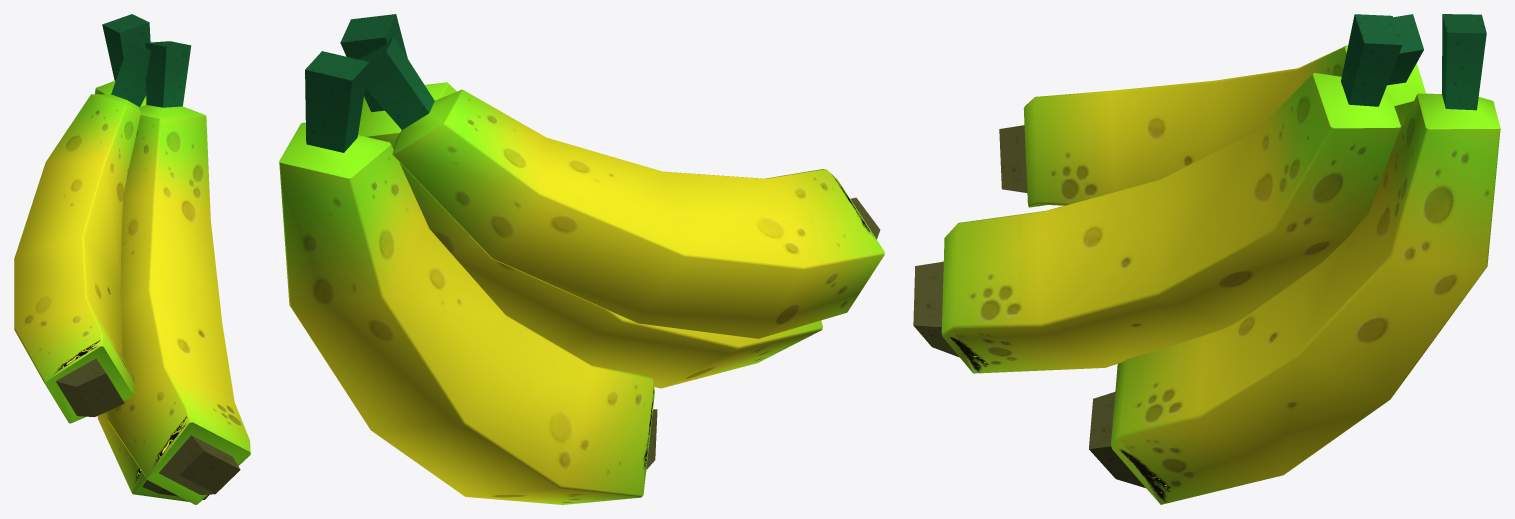
The model's file is banana.glb.
The picture shows the model from 3 angles, left to right: view 1: azimuth 30°, elevation 25°; view 2: azimuth 150°, elevation 25°; view 3: azimuth 270°, elevation 25°; orthographic projection. The views are drawn at different scales.
Visible parts, largest first — view 1: node_id43, node_id45, node_id47; view 2: node_id47, node_id45, node_id43; view 3: node_id43, node_id47, node_id45.
Boxes of the visible parts, box(x1,y1,x2,y2) form: node_id43: box(106, 41, 250, 504); node_id45: box(14, 42, 150, 423); node_id47: box(95, 14, 209, 501); node_id47: box(279, 51, 657, 504); node_id45: box(359, 37, 884, 338); node_id43: box(340, 14, 822, 388); node_id43: box(913, 14, 1402, 373); node_id47: box(1089, 14, 1500, 504); node_id45: box(999, 14, 1425, 207).
Size of the model in its own units: 0.3297 by 0.4384 by 0.4484.
3 materials, 3 textured.
